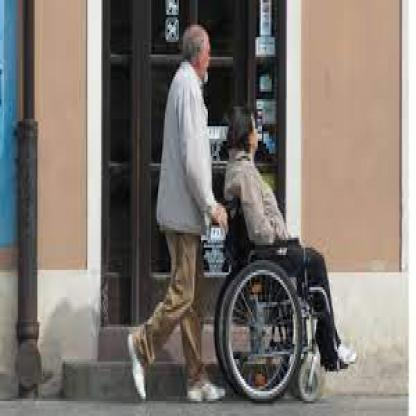wheelchair: (220, 94, 355, 414)
